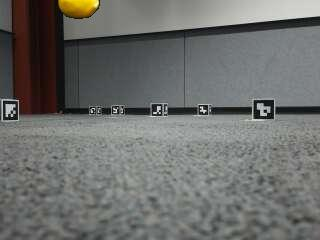lemon: (59, 0, 100, 18)
